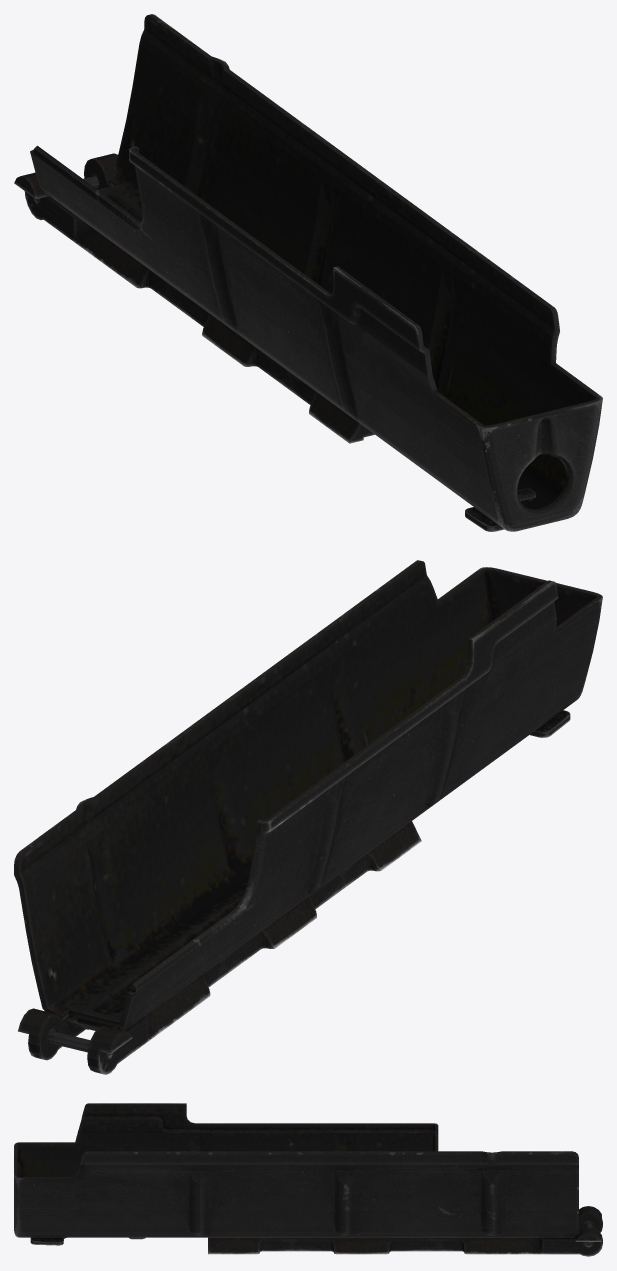
3 views of the same model, one above another, from view 1: azimuth 30°, elevation 25°; view 2: azimuth 150°, elevation 25°; view 3: azimuth 270°, elevation 25° (orthographic). The views are drawn at different scales.
Parts seen in each view (by area): view 1: TW_62e27a7865f0b1592a49e17b_PZ_Import; view 2: TW_62e27a7865f0b1592a49e17b_PZ_Import; view 3: TW_62e27a7865f0b1592a49e17b_PZ_Import.
Boxes of the visible parts, left/top/right/bottom form: TW_62e27a7865f0b1592a49e17b_PZ_Import: left=14, top=14, right=602, bottom=531; TW_62e27a7865f0b1592a49e17b_PZ_Import: left=14, top=560, right=602, bottom=1074; TW_62e27a7865f0b1592a49e17b_PZ_Import: left=14, top=1103, right=602, bottom=1256.
Size of the model in its own units: 0.0168 by 0.0982 by 0.0225.
1 material, 1 textured.
